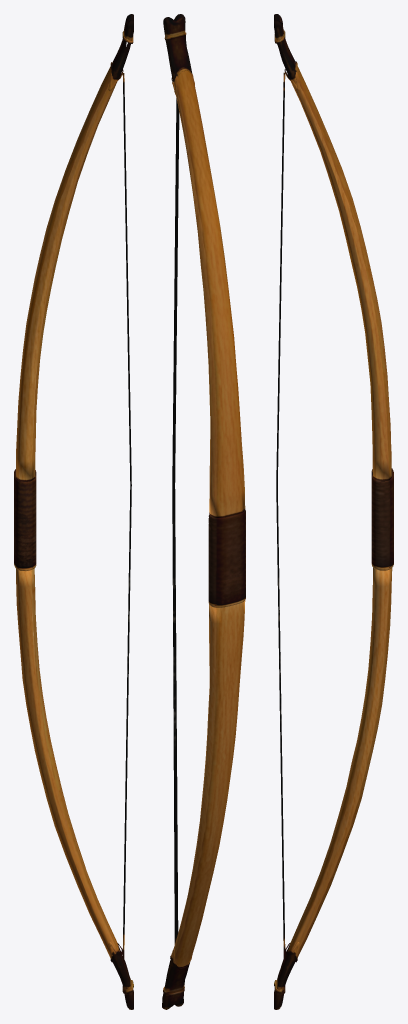
File: bow.glb
The picture shows the model from 3 angles, left to right: view 1: azimuth 90°, elevation 25°; view 2: azimuth 210°, elevation 25°; view 3: azimuth 270°, elevation 25°; orthographic projection.
Visible parts, largest first — view 1: tripo_65e22bf8_e3d6_4f61_925c_eb7c5f84c9a4; view 2: tripo_65e22bf8_e3d6_4f61_925c_eb7c5f84c9a4; view 3: tripo_65e22bf8_e3d6_4f61_925c_eb7c5f84c9a4.
Boxes of the visible parts, box(x1,y1,x2,y2) form: tripo_65e22bf8_e3d6_4f61_925c_eb7c5f84c9a4: box(14, 14, 133, 1009); tripo_65e22bf8_e3d6_4f61_925c_eb7c5f84c9a4: box(162, 14, 245, 1009); tripo_65e22bf8_e3d6_4f61_925c_eb7c5f84c9a4: box(274, 14, 393, 1009).
Size of the model in its own units: 0.0366 by 0.9995 by 0.1099.
Materials: 1 (1 with a texture image).
